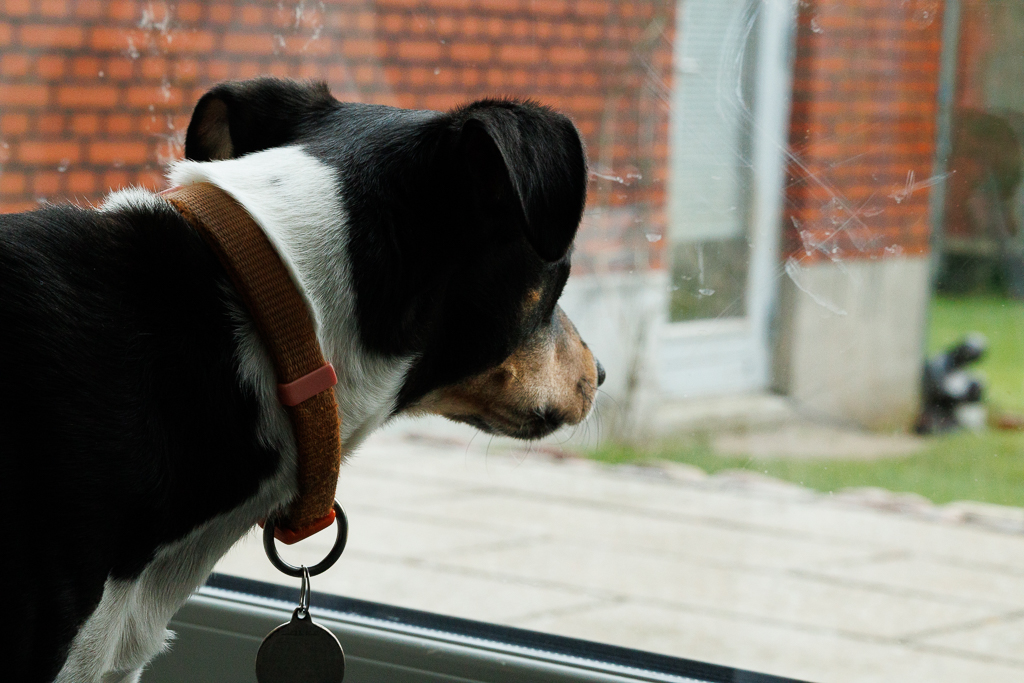Dog: (0, 65, 643, 683)
Humanoid: (897, 321, 1012, 446)
